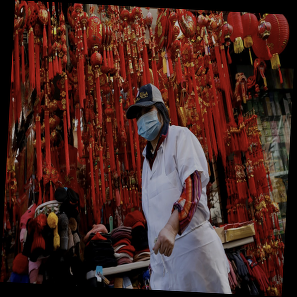with_mask: (198, 108, 237, 145)
